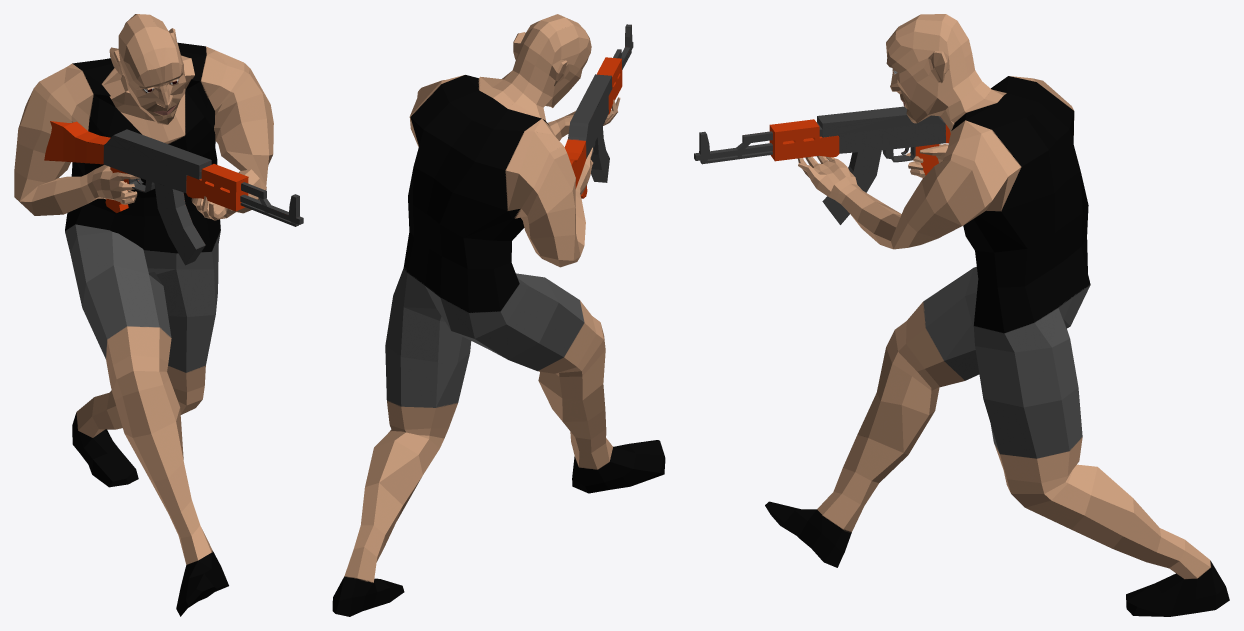
File: PlayerWalk(21).obj
3 renders of one model, left to right at view 1: azimuth 30°, elevation 25°; view 2: azimuth 150°, elevation 25°; view 3: azimuth 270°, elevation 25°, orthographic. The views are drawn at different scales.
Visible parts, largest first — view 1: Plane002, Object001; view 2: Plane002, Object001; view 3: Plane002, Object001.
Boxes of the visible parts, <box> form: Plane002: <box>14,14,273,616</box>; Object001: <box>44,121,303,265</box>; Plane002: <box>332,14,665,616</box>; Object001: <box>564,24,633,198</box>; Plane002: <box>765,14,1229,616</box>; Object001: <box>694,106,950,224</box>.
Size of the model in its own units: 601 by 1525 by 1333.
